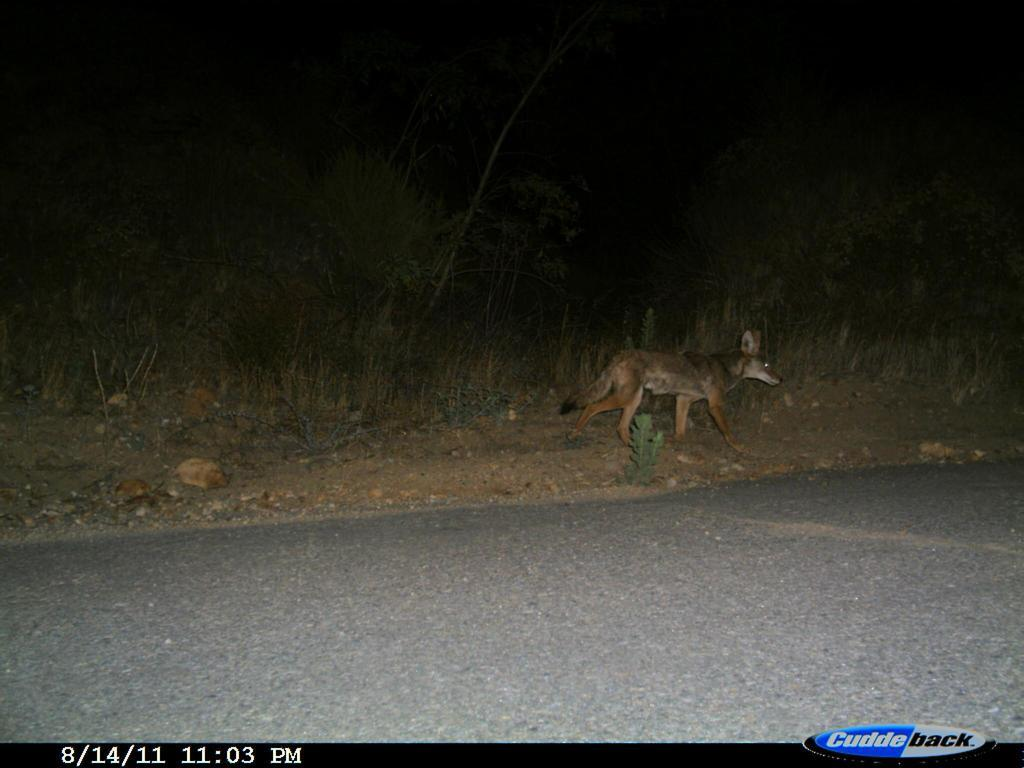coyote: (561, 319, 801, 479)
